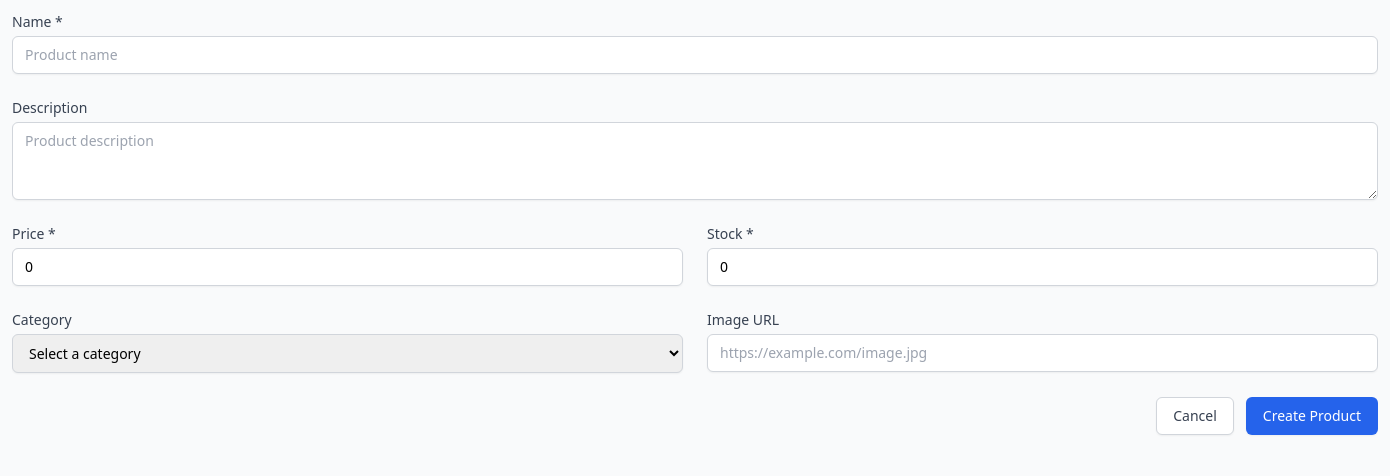
Test case: ProductForm › displays validation errors for required fields
The width and height of the screenshot is (1390, 476).
Click the button "Create Product".
click(1312, 416)  # box [1246, 397, 1378, 435]
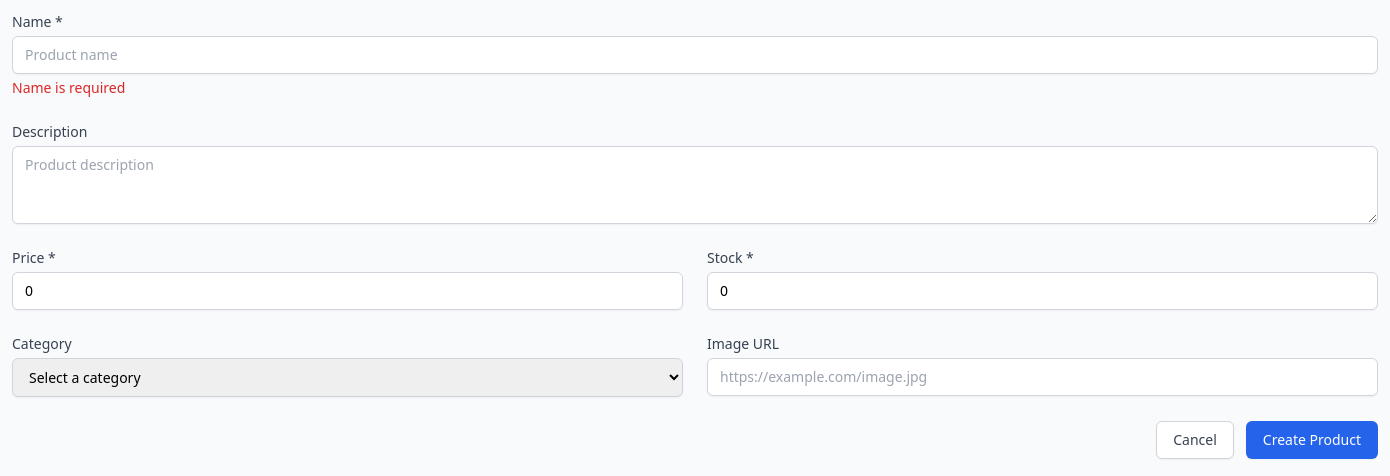
Expected: the text "Name is required" is shown, [12, 78, 125, 97]
